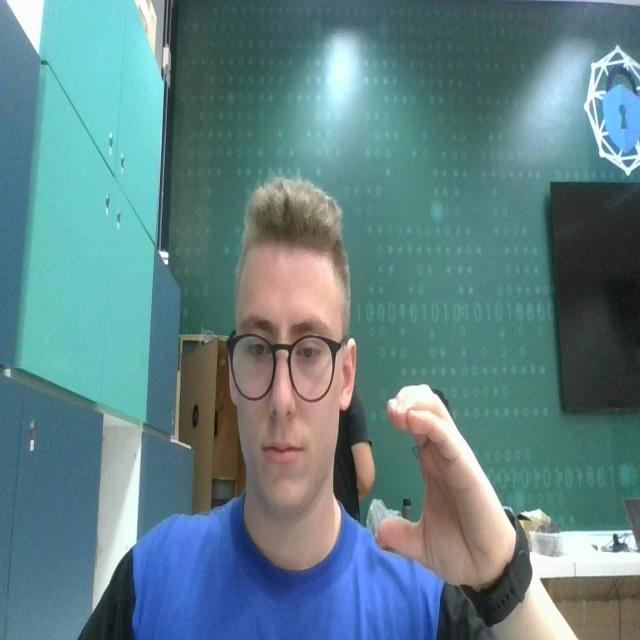C: (374, 375, 507, 583)
